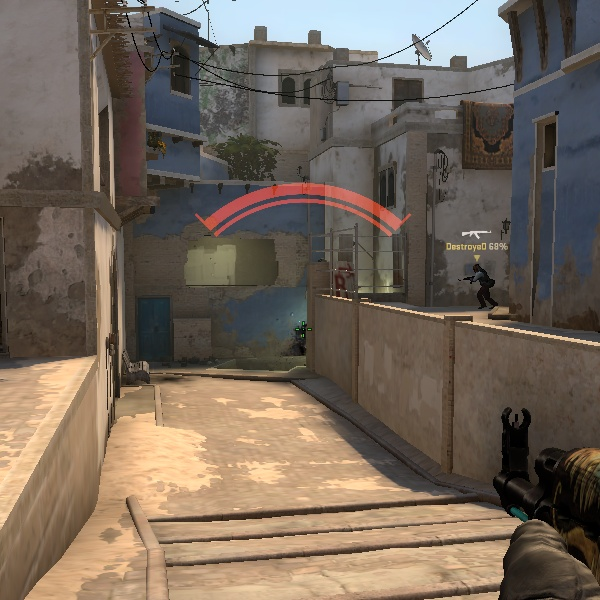t_body: (465, 260, 496, 308)
t_head: (470, 262, 484, 275)
